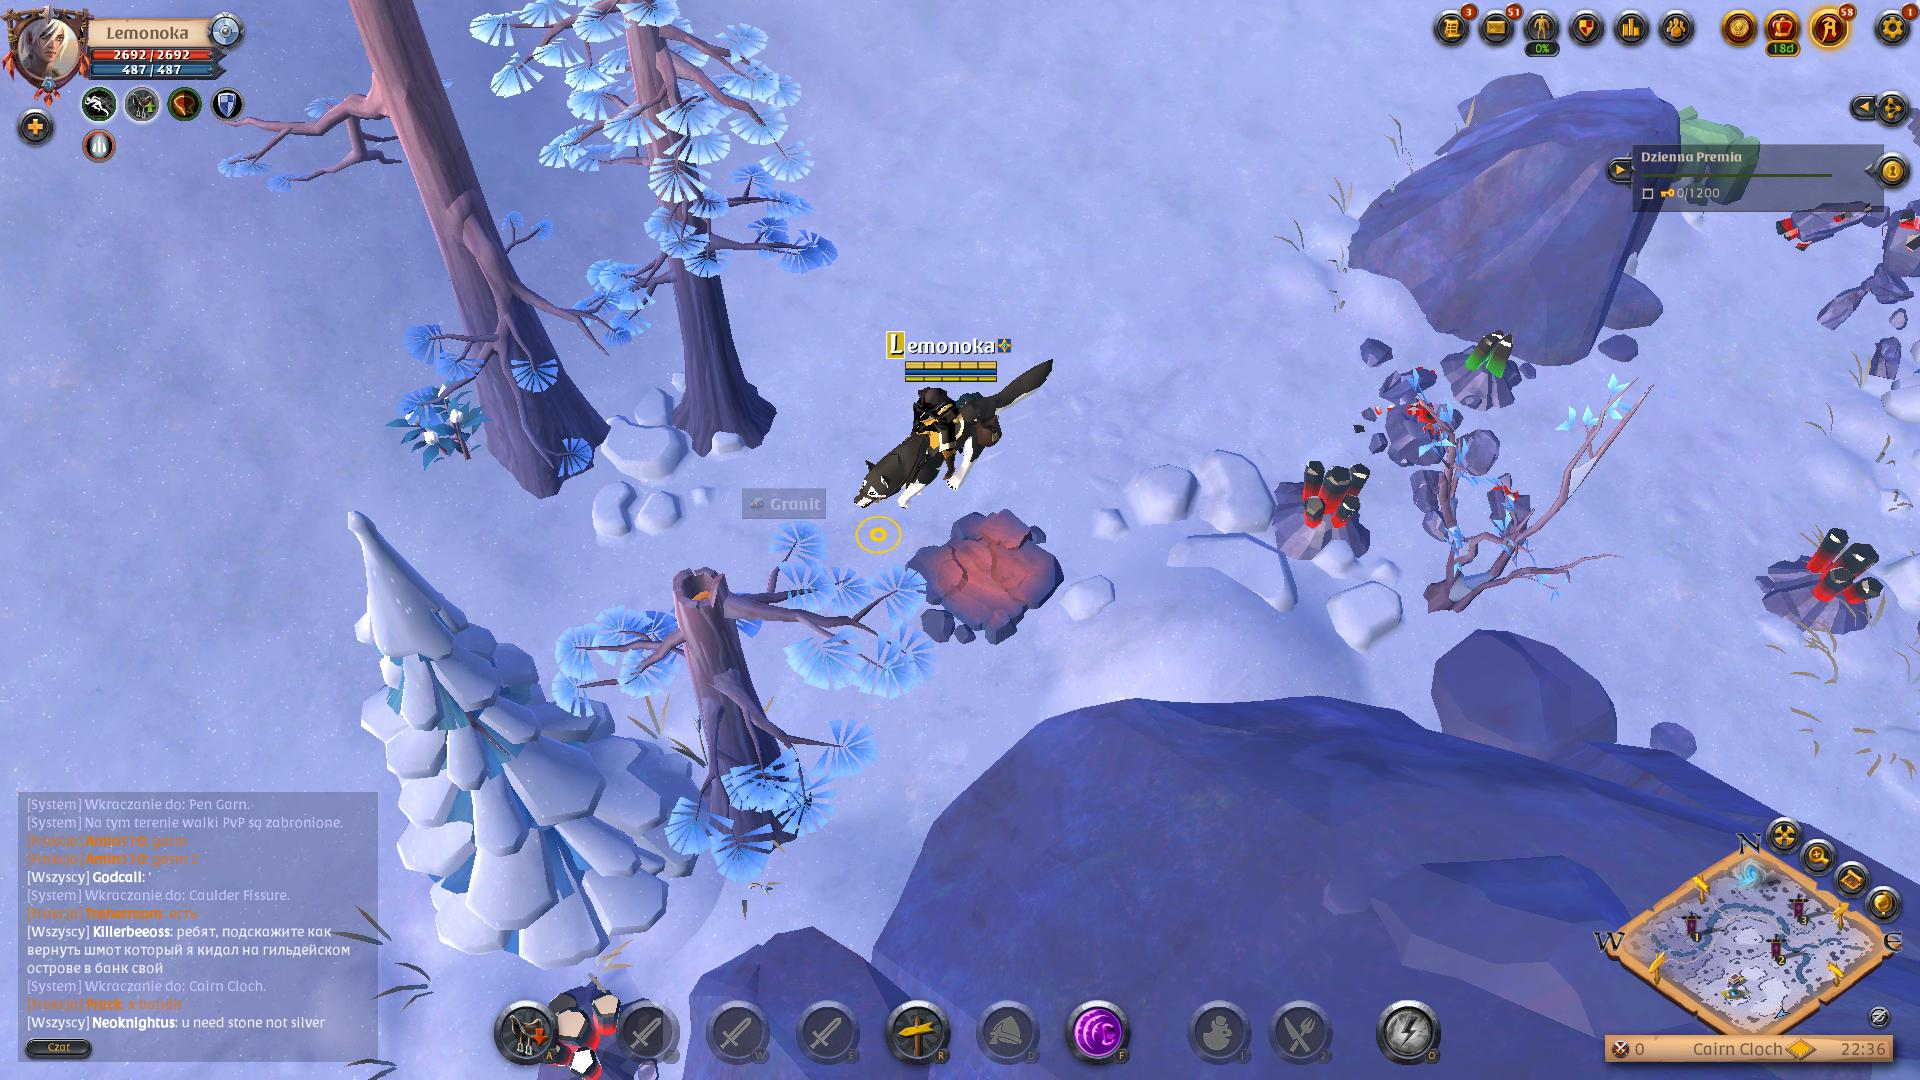fiber tier 4: (392, 377, 488, 469)
ore tier 3: (1444, 324, 1528, 409)
ore tier 5: (1762, 524, 1883, 640), (1275, 454, 1378, 564)
